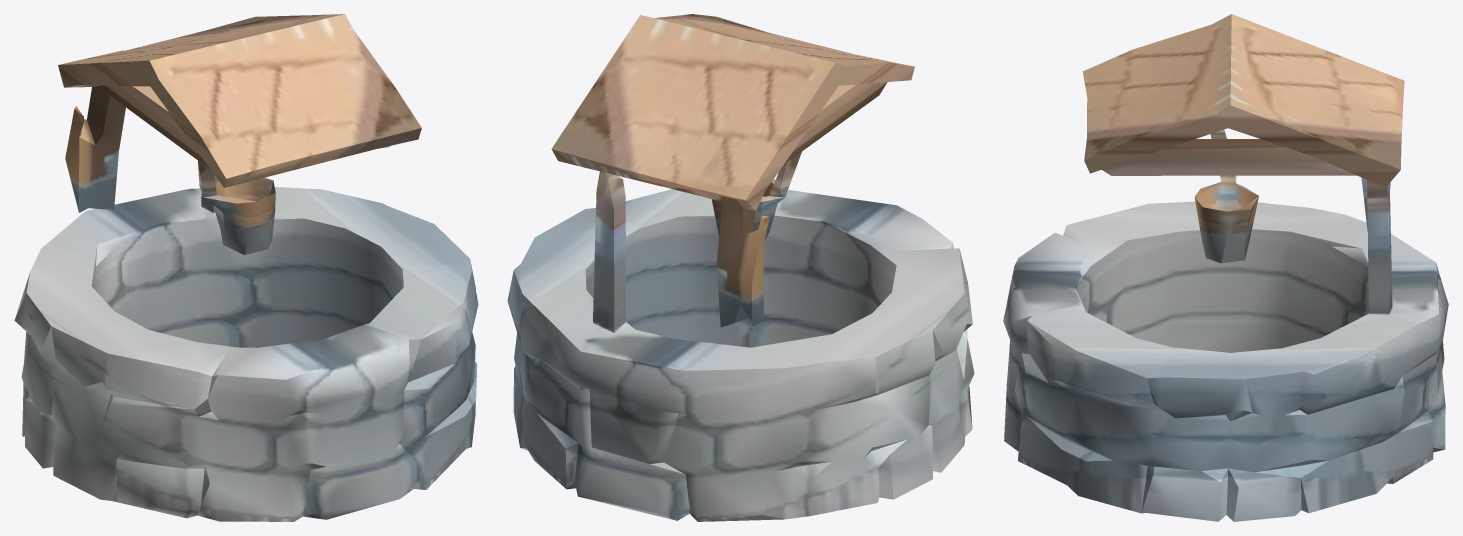
3 views of the same model, side by side, from view 1: azimuth 30°, elevation 25°; view 2: azimuth 150°, elevation 25°; view 3: azimuth 270°, elevation 25° (orthographic). The views are drawn at different scales.
Parts seen in each view (by area): view 1: Decor_stone_well; view 2: Decor_stone_well; view 3: Decor_stone_well.
Boxes of the visible parts, x1,y1,x2,y2 form: Decor_stone_well: (14, 14, 478, 521); Decor_stone_well: (507, 14, 974, 521); Decor_stone_well: (1003, 14, 1448, 521).
Bounding box in the file's own units: 2.15 × 1.99 × 2.16.
Materials: 1 (1 with a texture image).
